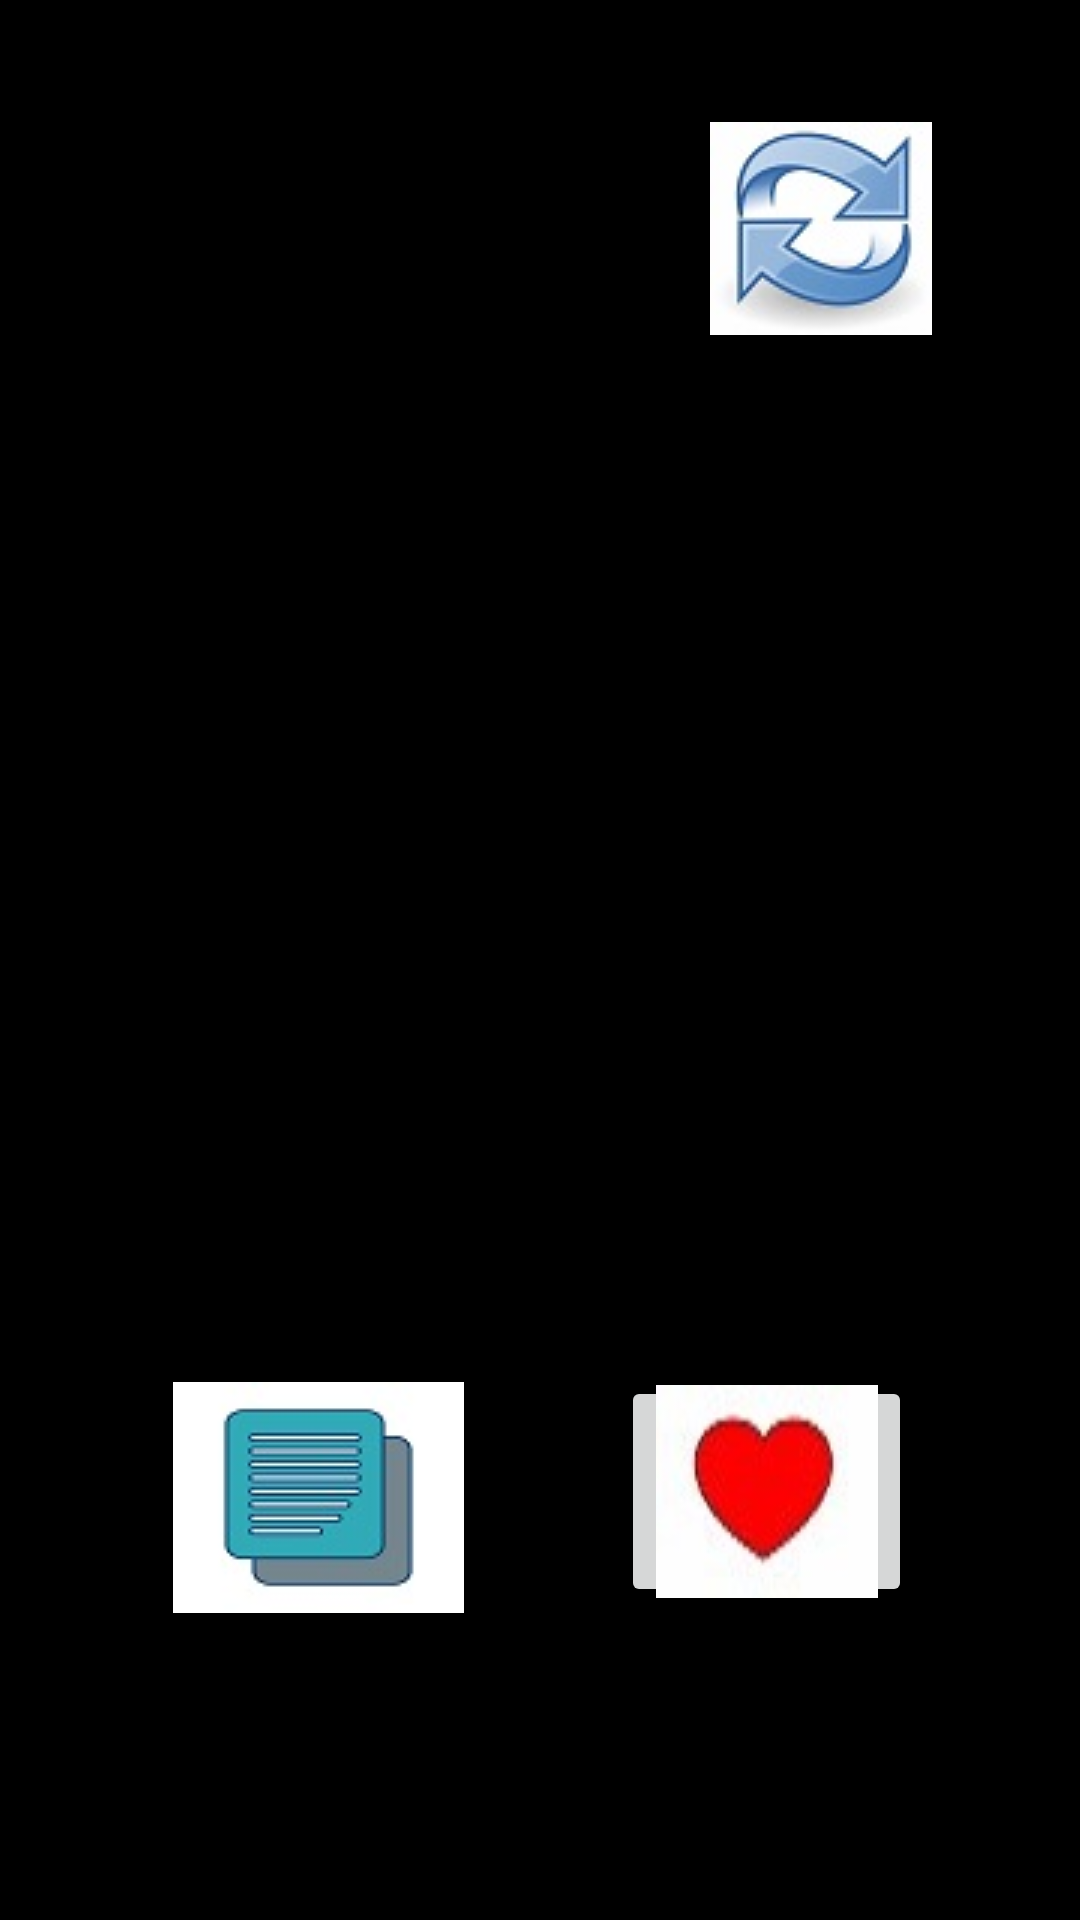

Icon click points for this 1080 x 1920 phone screenshot, format (x,y):
favouritebtn: (766,1491)
refresh: (821,228)
